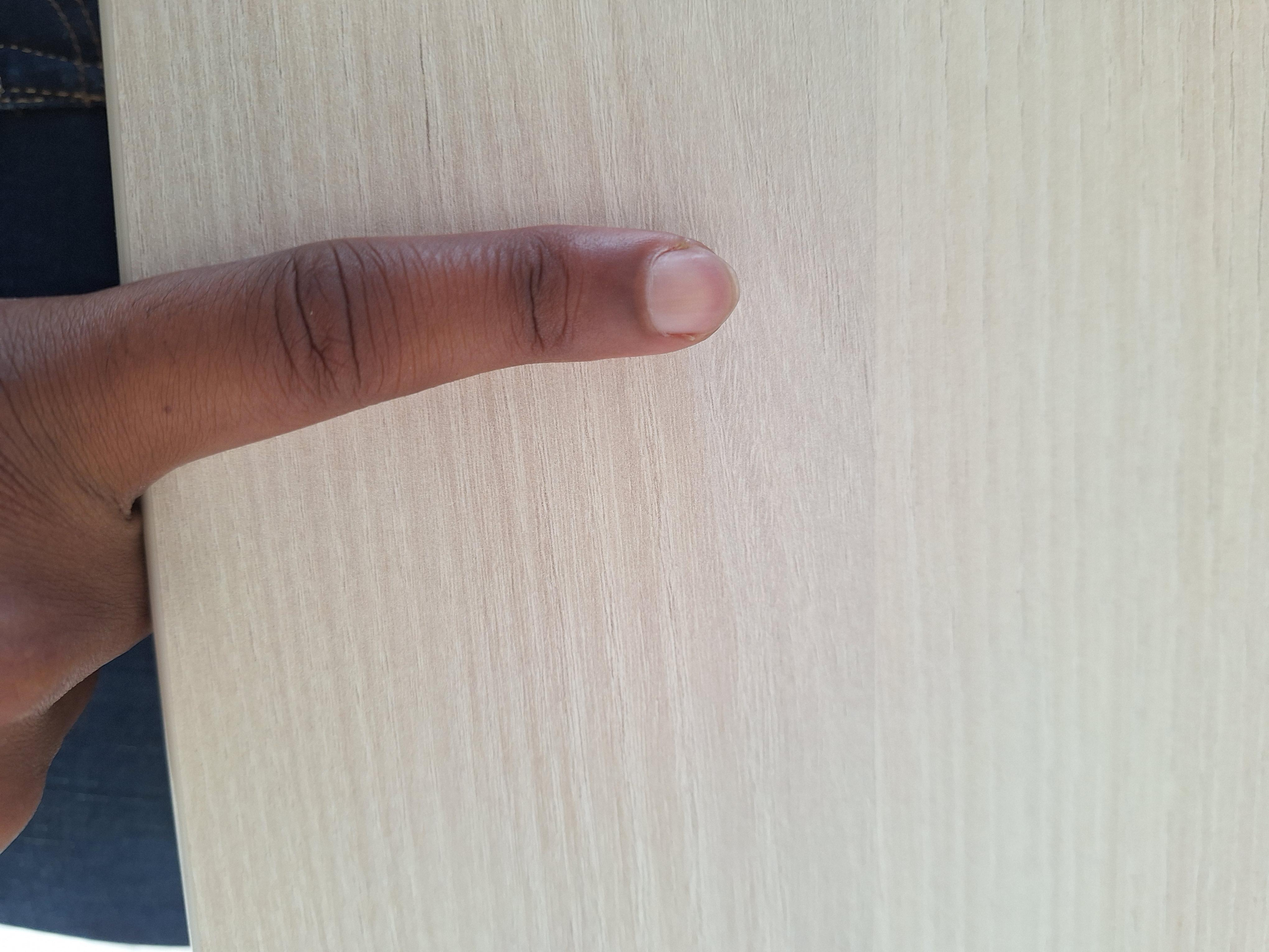Fingernail: (648, 245, 742, 335)
